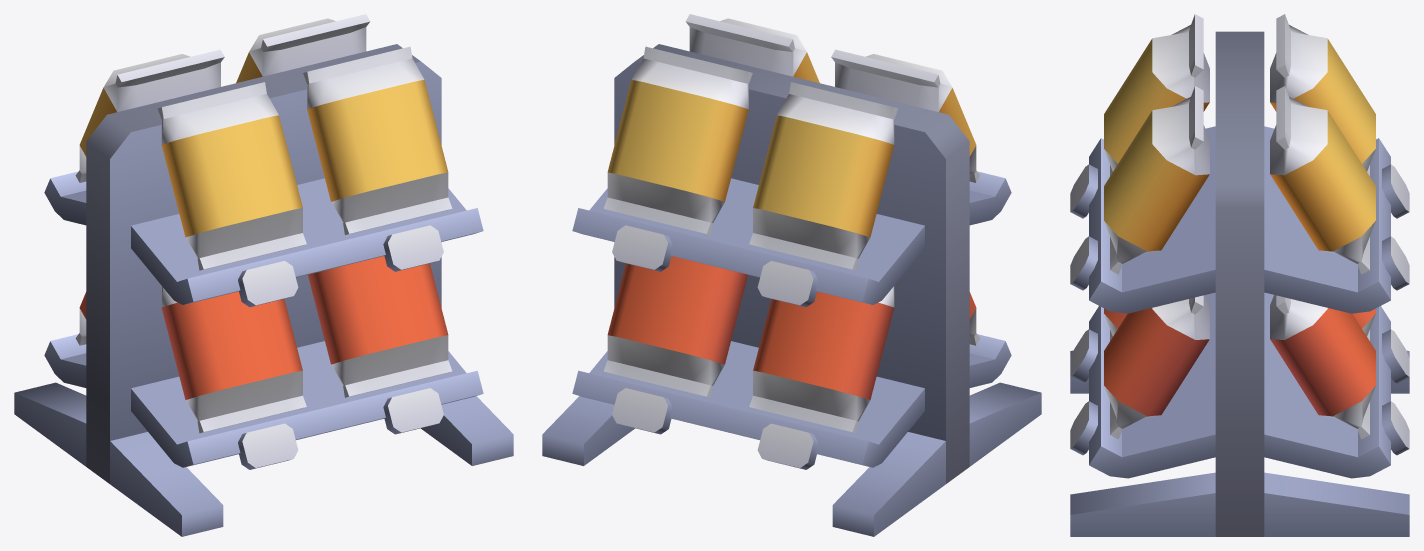
File: shelf-bags.obj
The picture shows the model from 3 angles, left to right: view 1: azimuth 30°, elevation 25°; view 2: azimuth 150°, elevation 25°; view 3: azimuth 270°, elevation 25°; orthographic projection.
Visible parts, largest first — view 1: shelf-bags, bag; view 2: shelf-bags, bag; view 3: shelf-bags, bag.
Boxes of the visible parts, bbox=[...] form: shelf-bags: bbox=[14, 44, 513, 536]; bag: bbox=[75, 14, 452, 433]; shelf-bags: bbox=[542, 44, 1041, 536]; bag: bbox=[603, 14, 980, 433]; shelf-bags: bbox=[1070, 31, 1409, 536]; bag: bbox=[1104, 14, 1375, 439].
Size of the model in its own units: 0.8 by 0.8634 by 0.7.
1 material, 1 textured.
